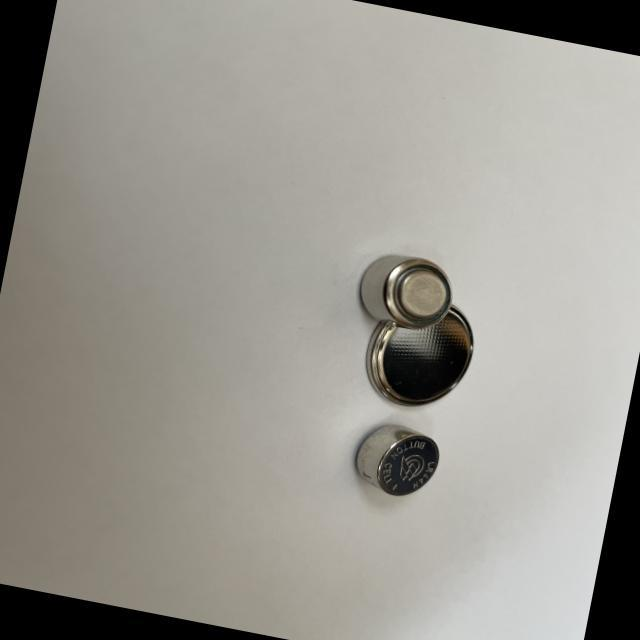COIN: (356, 288, 481, 418), (352, 248, 456, 336), (350, 419, 444, 503)
